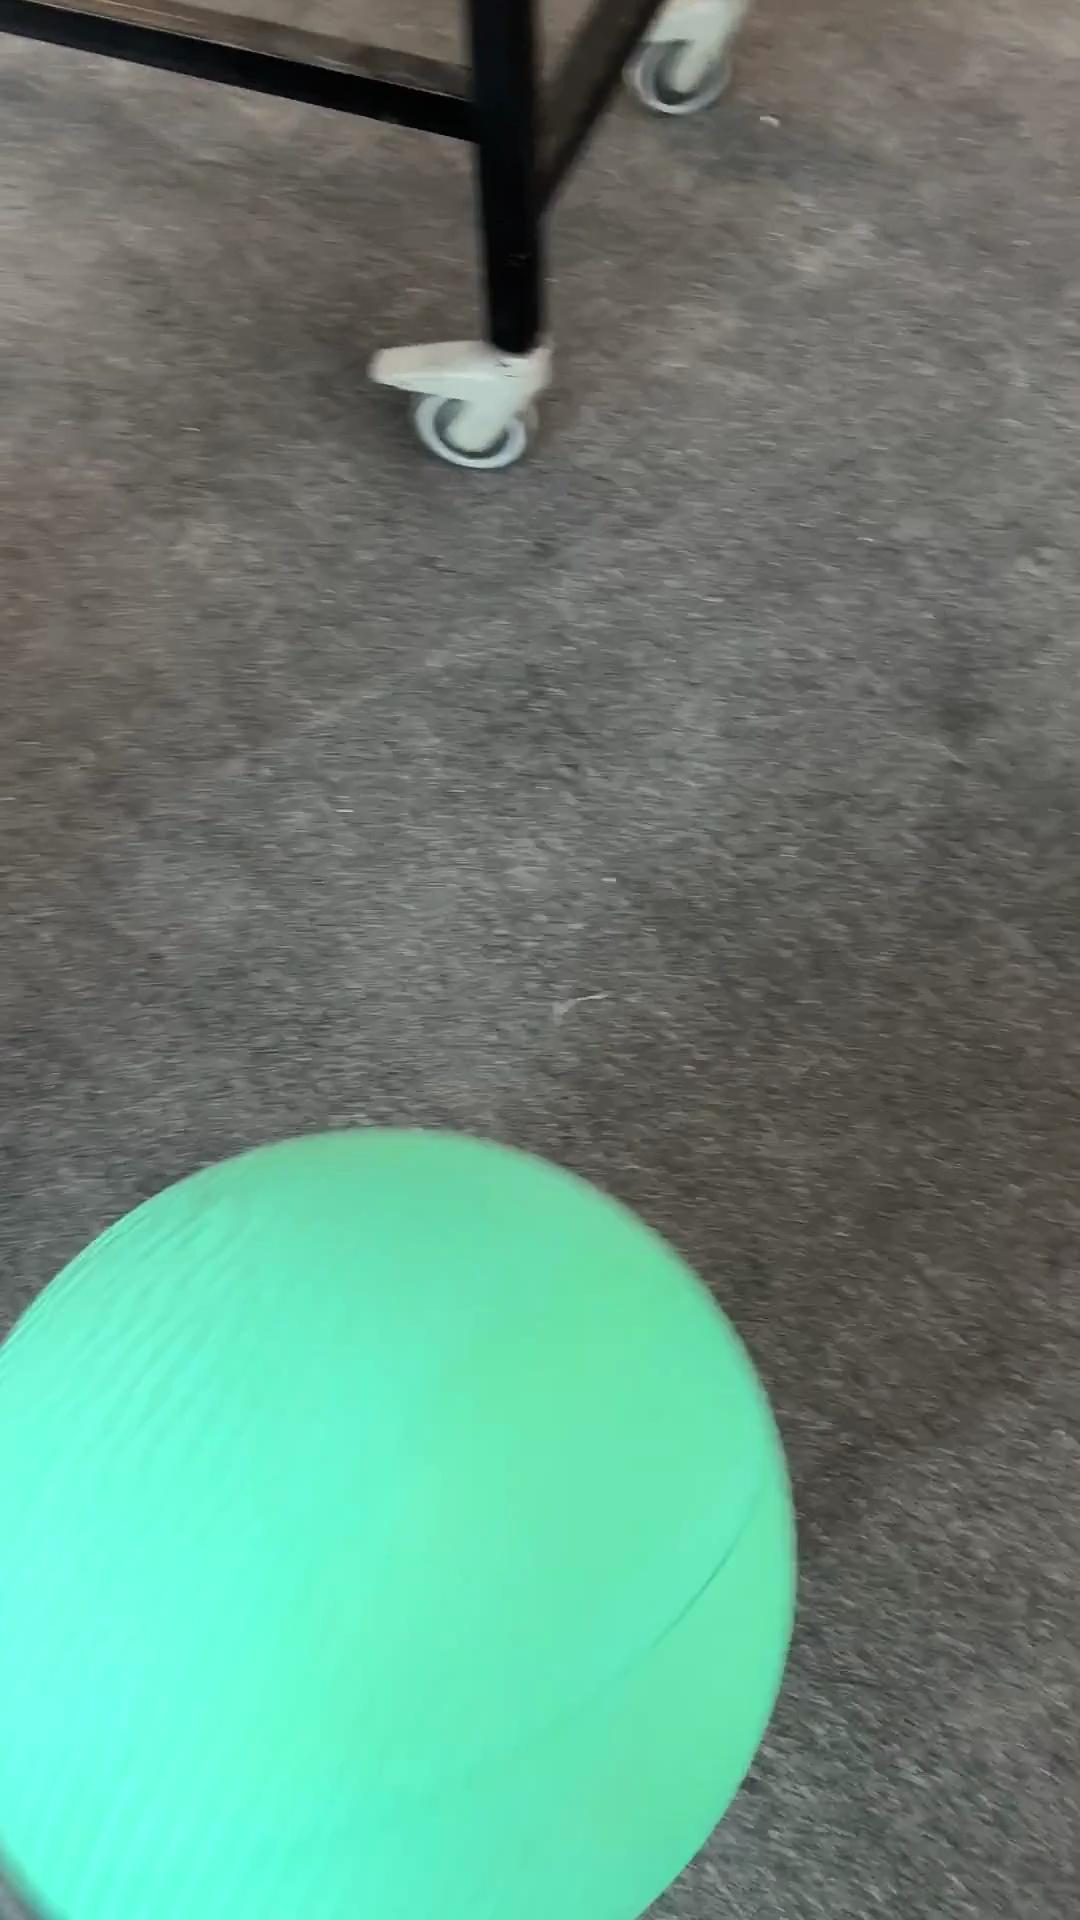ALGAE: (1, 1121, 799, 1916)
